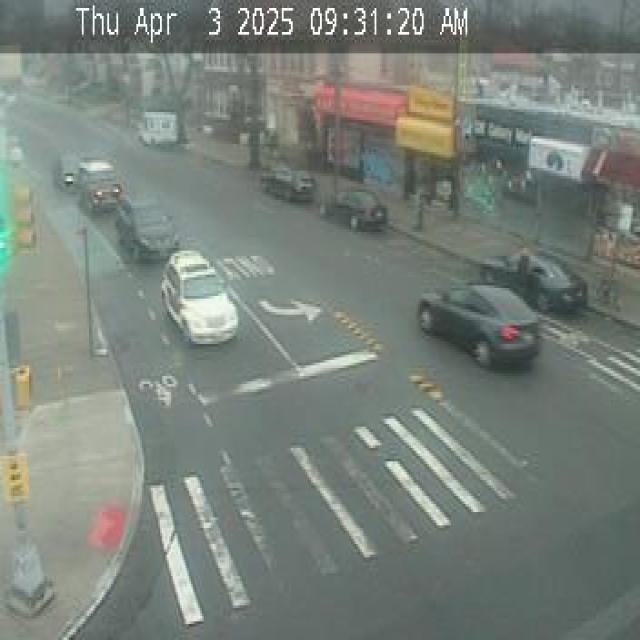open parking: (344, 192, 564, 312), (144, 98, 307, 200)
